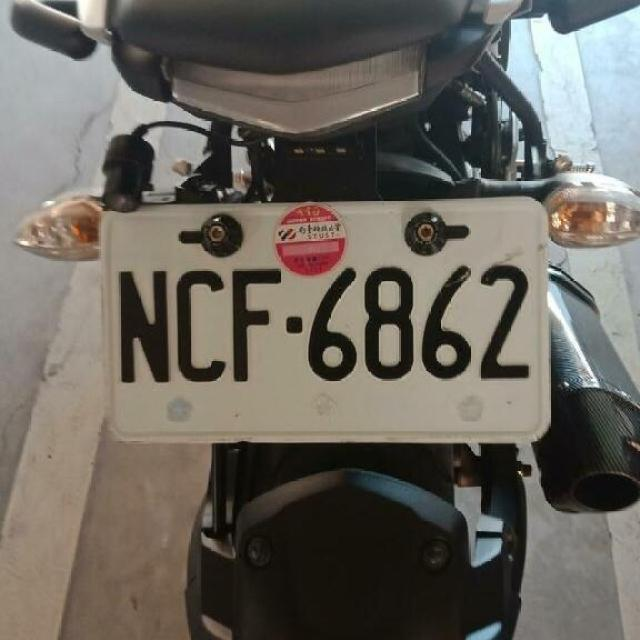W: (89, 179, 561, 455)
